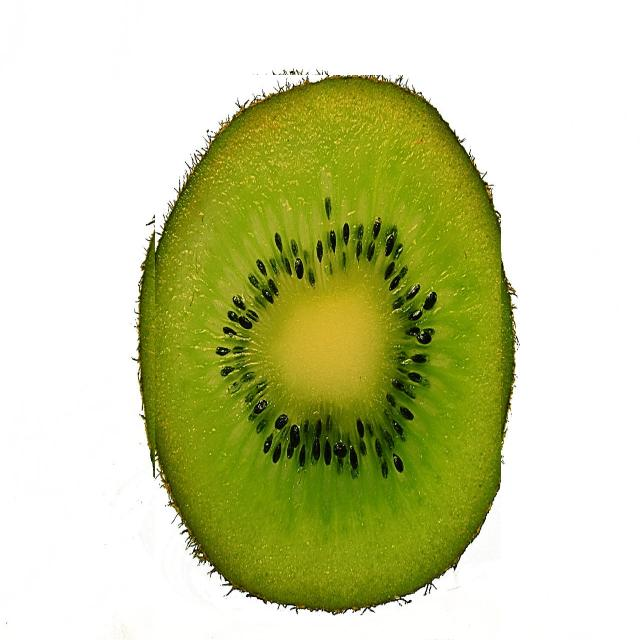Qiwi: (155, 75, 501, 639)
